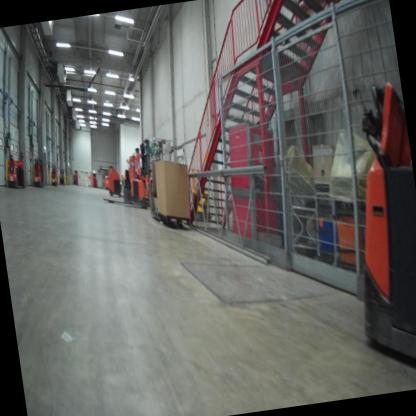forklift: (95, 135, 162, 215), (111, 139, 154, 207), (112, 145, 146, 203)
pallet_truck: (318, 74, 416, 385), (2, 150, 29, 189), (102, 162, 125, 200), (28, 154, 48, 189), (48, 163, 60, 186)
